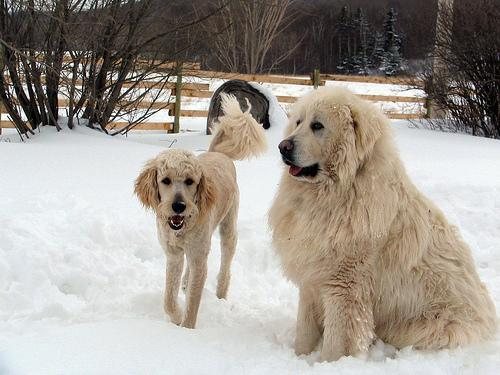Great_Pyrenees: (265, 85, 499, 363), (131, 90, 273, 331)
